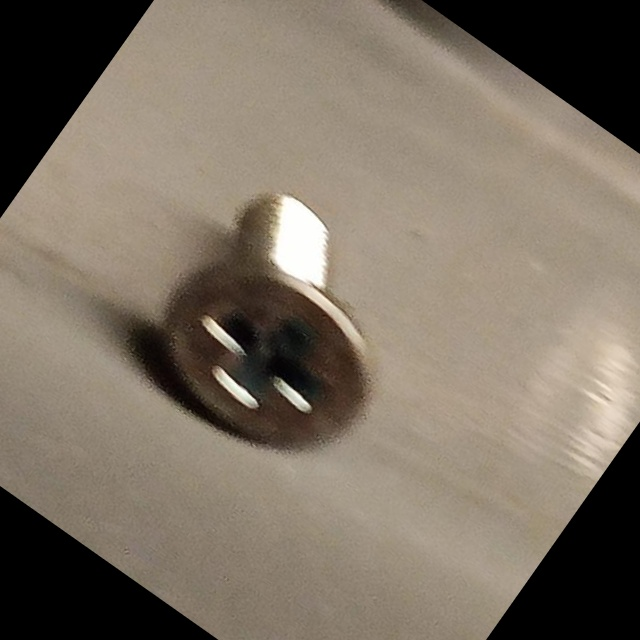phillips: (125, 223, 405, 490)
